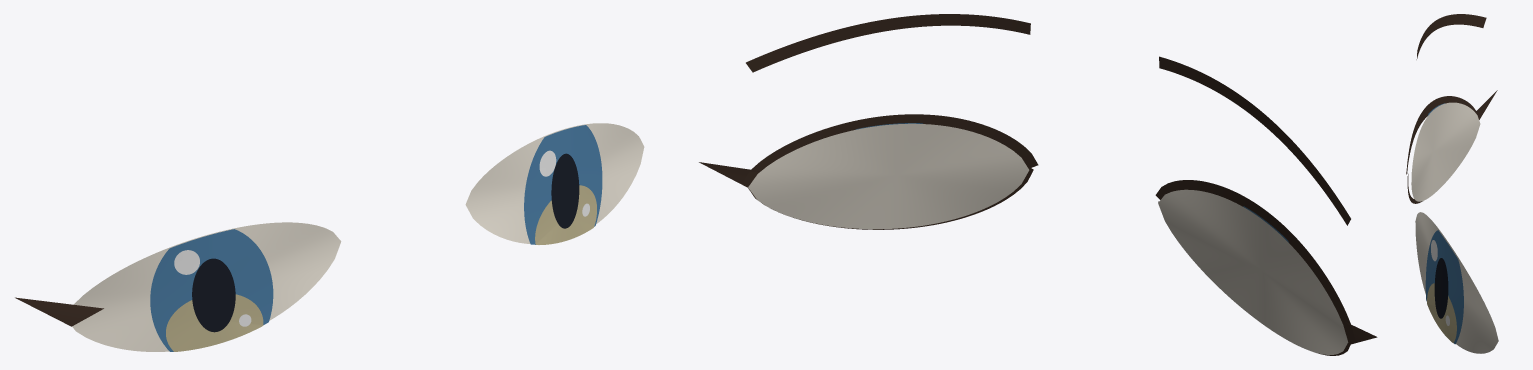
The picture shows the model from 3 angles, left to right: view 1: azimuth 30°, elevation 25°; view 2: azimuth 150°, elevation 25°; view 3: azimuth 270°, elevation 25°; orthographic projection. The views are drawn at different scales.
Visible parts, largest first — view 1: Eye_White_-1, Eye_White_1, Eye_Iris_-1, Eye_Iris_1, Eye_Iris_Light_-1, Eye_Pupil_-1, Eye_Iris_Light_1, Eye_Pupil_1, Eye_LashWing_-1, Eye_Glint_-1_0; view 2: Eye_White_1, Eye_White_-1, Eyebrow_1, Eye_UpperLid_1, Eye_UpperLid_-1, Eyebrow_-1; view 3: Eye_White_-1, Eye_White_1, Eye_Iris_1, Eye_Iris_Light_1, Eyebrow_-1, Eye_Pupil_1, Eye_UpperLid_-1, Eye_LashWing_-1, Eye_Glint_1_0.
Part boxes in pixels (x1,y1,x2,y2): Eye_White_-1: (72,222,341,351); Eye_White_1: (465,123,644,243); Eye_Iris_-1: (150,229,273,351); Eye_Iris_1: (524,125,602,244); Eye_Iris_Light_-1: (166,294,263,351); Eye_Pupil_-1: (192,258,235,332); Eye_Iris_Light_1: (535,185,596,244); Eye_Pupil_1: (551,153,579,228); Eye_LashWing_-1: (15,297,103,326); Eye_Glint_-1_0: (174,250,199,274); Eye_White_1: (748,123,1029,229); Eye_White_-1: (1158,189,1348,354); Eyebrow_1: (746,14,1030,72); Eye_UpperLid_1: (743,114,1038,184); Eye_UpperLid_-1: (1155,180,1355,339); Eyebrow_-1: (1159,56,1350,225); Eye_White_-1: (1411,102,1480,201); Eye_White_1: (1415,212,1498,353); Eye_Iris_1: (1425,230,1463,344); Eye_Iris_Light_1: (1427,283,1456,343); Eyebrow_-1: (1416,14,1486,59); Eye_Pupil_1: (1434,258,1448,318); Eye_UpperLid_-1: (1406,96,1478,174); Eye_LashWing_-1: (1475,90,1497,119); Eye_Glint_1_0: (1431,240,1437,261).
Size of the model in its own units: 0.4435 by 0.156 by 0.0799.
